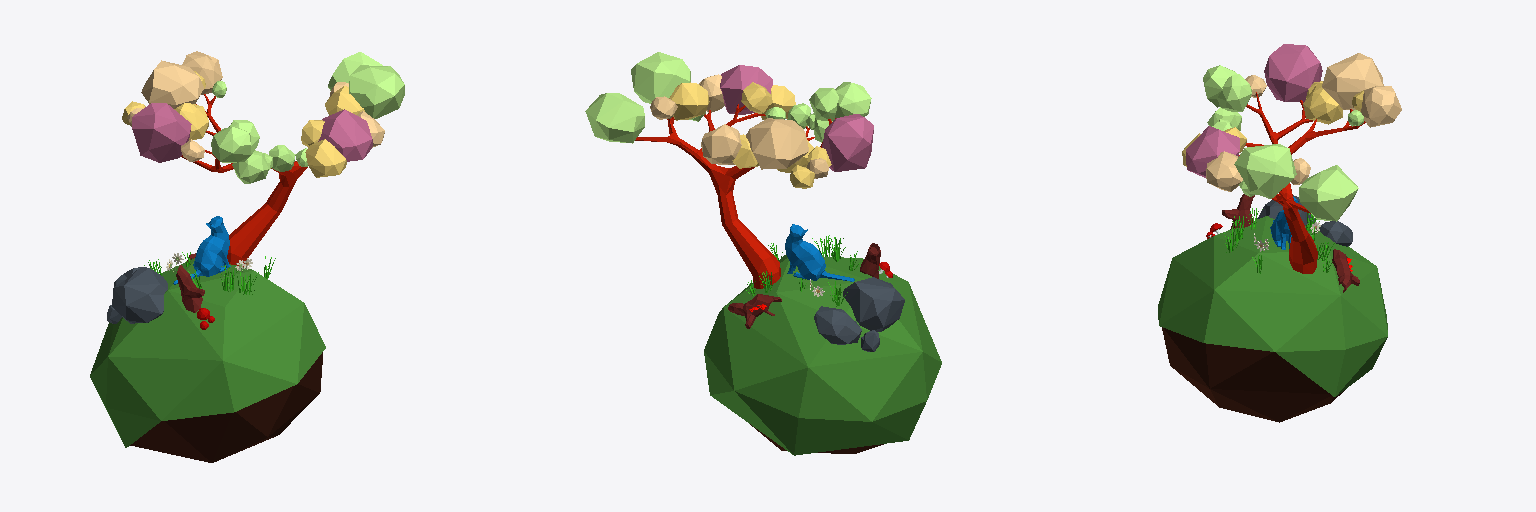
The model's file is 3_lowpolyisland4_forweb.obj.
3 views of the same model, side by side, from view 1: azimuth 30°, elevation 25°; view 2: azimuth 150°, elevation 25°; view 3: azimuth 270°, elevation 25° (orthographic).
Parts seen in each view (by area): view 1: Icosphere.025, Cube, Icosphere.017, Rock1_Icosphere.028, Icosphere.001, Icosphere.010, Icosphere.006, Cat_Plane.001, Icosphere.020, Icosphere.007, Icosphere.011, Icosphere.023 (+5 smaller); view 2: Icosphere.025, Cube, Icosphere.010, Icosphere.017, Rock1_Icosphere.028, Icosphere, Icosphere.001, Cat_Plane.001, Icosphere.006, Rock3_Icosphere.029, Icosphere.011, Icosphere.002 (+6 smaller); view 3: Icosphere.025, Cube, Icosphere.017, Icosphere.001, Icosphere, Icosphere.010, Icosphere.006, Icosphere.011, Icosphere.014, Icosphere.004, Icosphere.021, Icosphere.020 (+4 smaller).
Part boxes in pixels (x1,y1,x2,y2): Icosphere.025: (90, 258, 325, 462); Cube: (181, 94, 307, 266); Icosphere.017: (132, 103, 191, 162); Rock1_Icosphere.028: (112, 268, 167, 323); Icosphere.001: (349, 65, 404, 118); Icosphere.010: (141, 60, 203, 108); Icosphere.006: (318, 109, 372, 161); Cat_Plane.001: (173, 216, 230, 284); Icosphere.020: (211, 127, 251, 162); Icosphere.007: (305, 139, 346, 177); Icosphere.011: (182, 51, 222, 94); Icosphere.023: (232, 150, 268, 183); Icosphere.025: (704, 255, 941, 455); Cube: (635, 104, 835, 288); Icosphere.010: (746, 118, 808, 169); Icosphere.017: (822, 114, 873, 171); Rock1_Icosphere.028: (843, 277, 904, 331); Icosphere: (585, 93, 644, 143); Icosphere.001: (631, 52, 690, 103); Cat_Plane.001: (785, 224, 854, 281); Icosphere.006: (720, 65, 772, 114); Rock3_Icosphere.029: (814, 306, 861, 344); Icosphere.011: (701, 124, 741, 164); Icosphere.002: (669, 82, 709, 120); Icosphere.025: (1158, 216, 1387, 422); Cube: (1239, 92, 1365, 273); Icosphere.017: (1264, 44, 1322, 102); Icosphere.001: (1234, 144, 1296, 198); Icosphere: (1299, 165, 1358, 221); Icosphere.010: (1322, 53, 1383, 110); Icosphere.006: (1186, 126, 1239, 177); Icosphere.011: (1361, 86, 1401, 127); Icosphere.014: (1303, 83, 1342, 124); Icosphere.004: (1206, 151, 1242, 191); Icosphere.021: (1217, 74, 1251, 111); Icosphere.020: (1203, 65, 1237, 107).
Size of the model in its own units: 4.94 by 5.32 by 3.39.